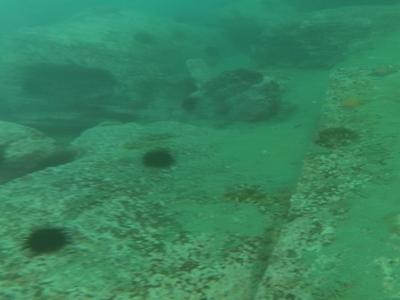holothurian: (217, 184, 276, 209), (309, 122, 360, 145)
urchin: (20, 224, 73, 255), (142, 146, 178, 170)
